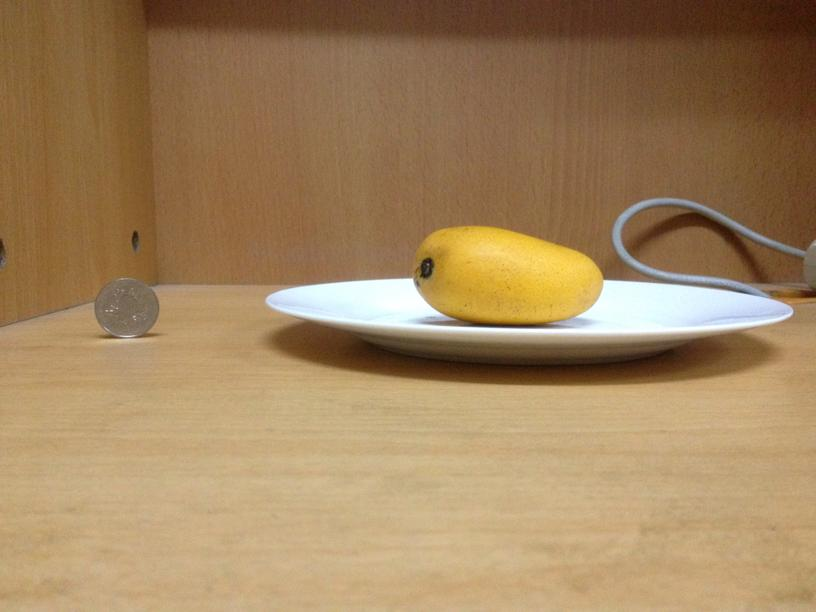coin: (95, 277, 160, 335)
mango: (413, 225, 602, 323)
